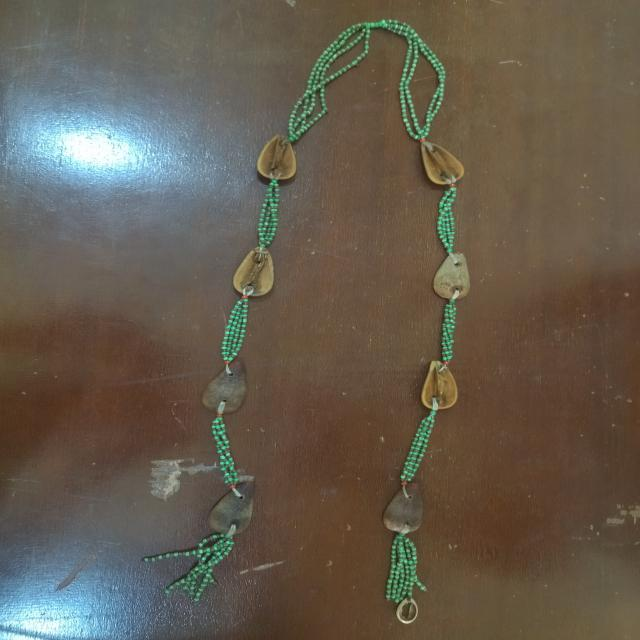facedown: (194, 353, 262, 426), (201, 470, 265, 544), (379, 477, 436, 542), (424, 248, 485, 305)
faceup: (222, 238, 289, 308), (403, 133, 478, 195), (410, 354, 476, 421), (248, 131, 310, 190)
